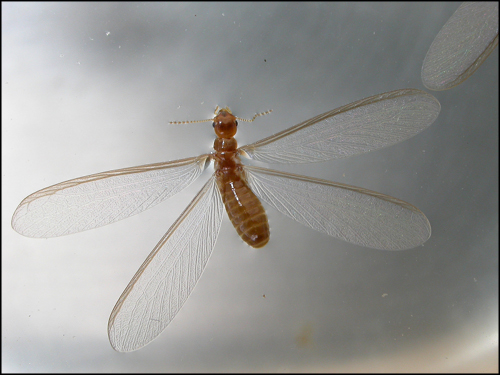flying termite: (7, 85, 467, 358)
